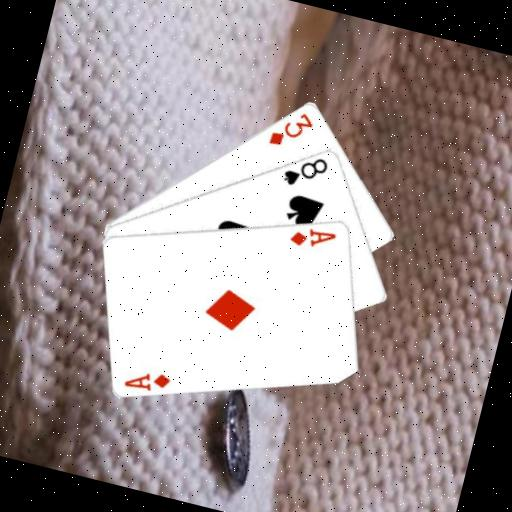3D: (265, 102, 318, 155)
8S: (278, 146, 332, 195)
AD: (286, 219, 340, 256), (121, 362, 175, 399)
